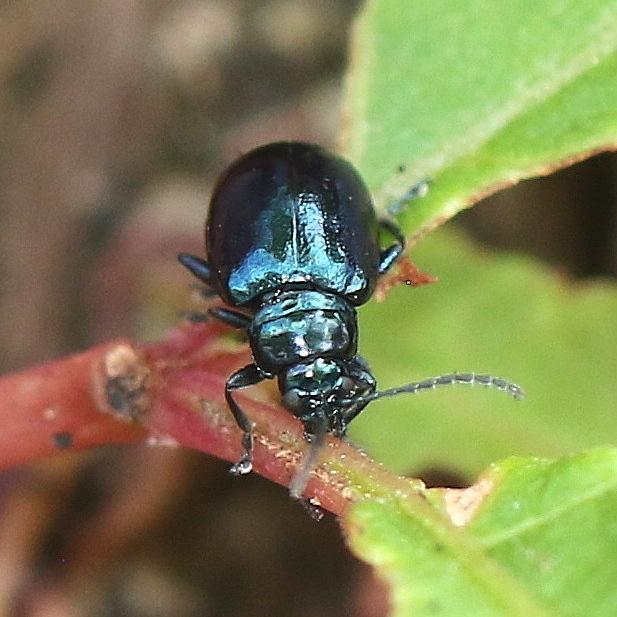flea_beetle: (143, 98, 543, 516)
